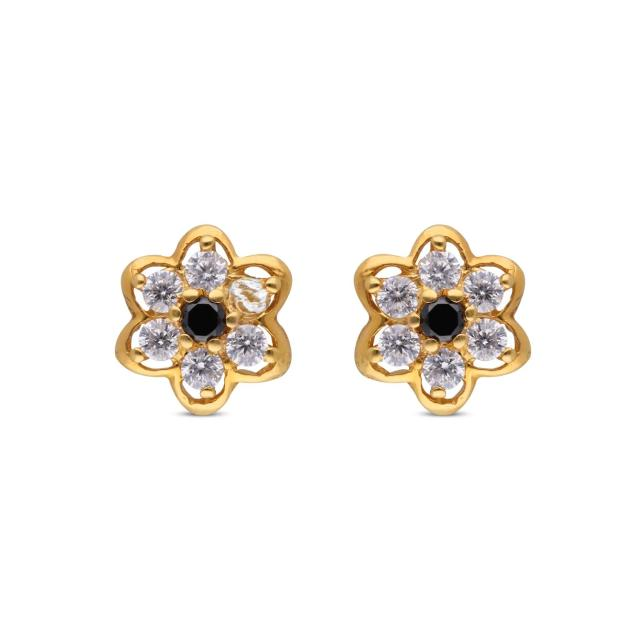missing gem: (230, 275, 270, 314)
